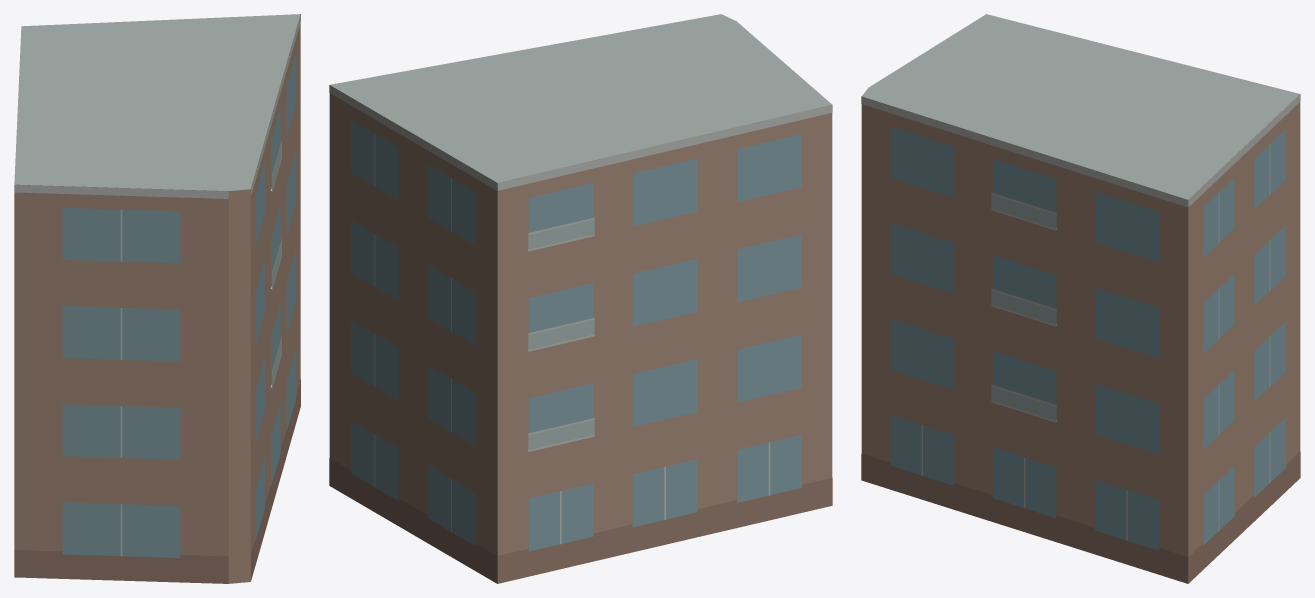
The model's file is survey-upis-32473704.glb.
3 views of the same model, side by side, from view 1: azimuth 30°, elevation 25°; view 2: azimuth 150°, elevation 25°; view 3: azimuth 270°, elevation 25° (orthographic). The views are drawn at different scales.
Parts seen in each view (by area): view 1: survey-upis-32473704.tmp; view 2: survey-upis-32473704.tmp; view 3: survey-upis-32473704.tmp.
Part boxes in pixels (x1,y1,x2,y2): survey-upis-32473704.tmp: (14, 14, 300, 583); survey-upis-32473704.tmp: (329, 14, 832, 583); survey-upis-32473704.tmp: (861, 14, 1300, 583).
Bounding box in the file's own units: 12.67 × 12.2 × 12.64.
